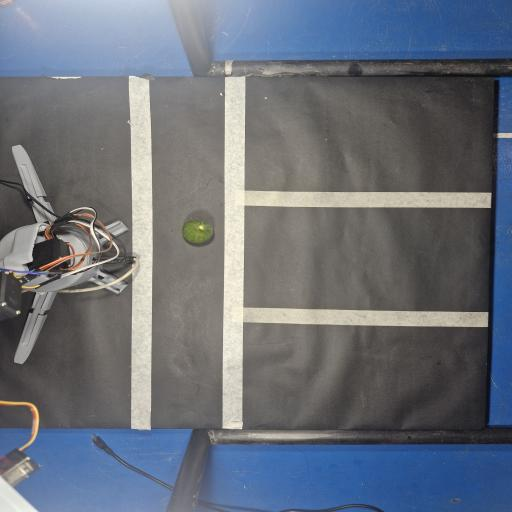higo: (182, 220, 213, 243)
